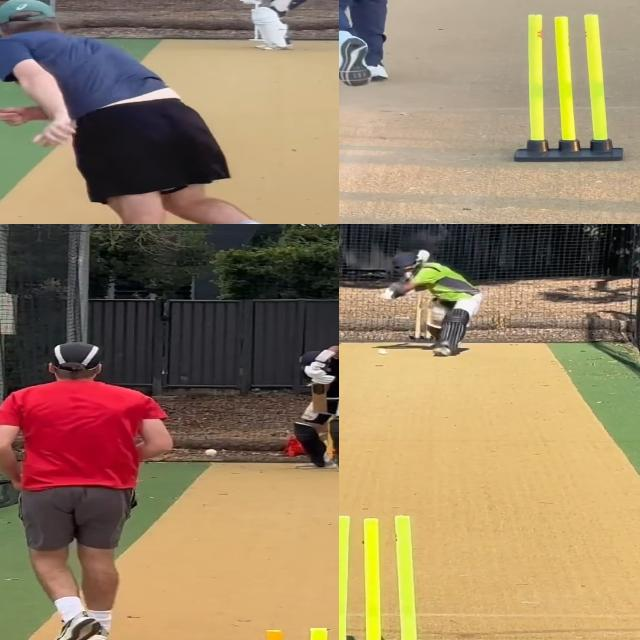Cricket ball: (203, 448, 219, 456), (377, 347, 391, 355)
Stumps: (515, 13, 623, 162), (339, 512, 439, 640)
